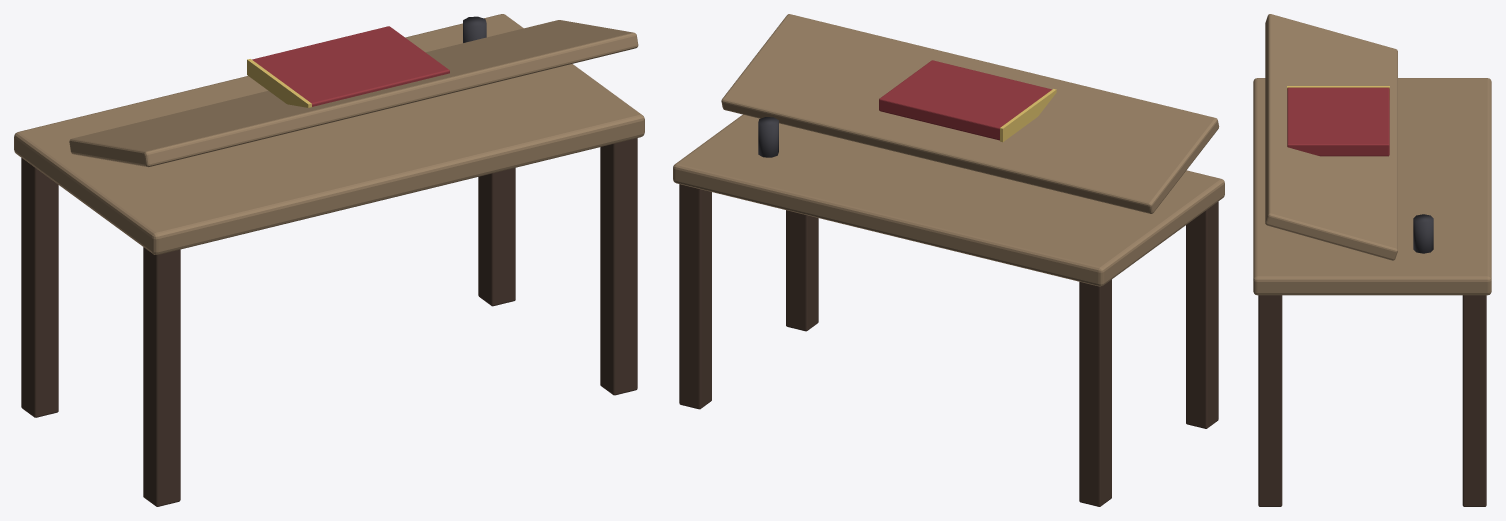
Rendered from desk_scriptorium.glb.
3 renders of one model, left to right at view 1: azimuth 30°, elevation 25°; view 2: azimuth 150°, elevation 25°; view 3: azimuth 270°, elevation 25°, orthographic. The views are drawn at different scales.
Visible parts, largest first — view 1: GD_desk_scriptorium__m0, GD_desk_scriptorium__m1, GD_desk_scriptorium__m2, GD_desk_scriptorium__m4; view 2: GD_desk_scriptorium__m0, GD_desk_scriptorium__m1, GD_desk_scriptorium__m2, GD_desk_scriptorium__m4, GD_desk_scriptorium__m5; view 3: GD_desk_scriptorium__m0, GD_desk_scriptorium__m1, GD_desk_scriptorium__m2, GD_desk_scriptorium__m5.
Part boxes in pixels (left/top/right/bottom): GD_desk_scriptorium__m0: left=14, top=14, right=644, bottom=254; GD_desk_scriptorium__m1: left=21, top=138, right=637, bottom=506; GD_desk_scriptorium__m2: left=252, top=26, right=449, bottom=106; GD_desk_scriptorium__m4: left=247, top=59, right=311, bottom=107; GD_desk_scriptorium__m0: left=673, top=14, right=1224, bottom=286; GD_desk_scriptorium__m1: left=679, top=184, right=1218, bottom=506; GD_desk_scriptorium__m2: left=879, top=60, right=1051, bottom=140; GD_desk_scriptorium__m4: left=1000, top=89, right=1056, bottom=142; GD_desk_scriptorium__m5: left=758, top=117, right=778, bottom=157; GD_desk_scriptorium__m0: left=1253, top=14, right=1491, bottom=295; GD_desk_scriptorium__m1: left=1258, top=295, right=1486, bottom=506; GD_desk_scriptorium__m2: left=1287, top=87, right=1389, bottom=156; GD_desk_scriptorium__m5: left=1413, top=214, right=1433, bottom=253.
Size of the model in its own units: 1.4 by 0.956 by 0.7.
